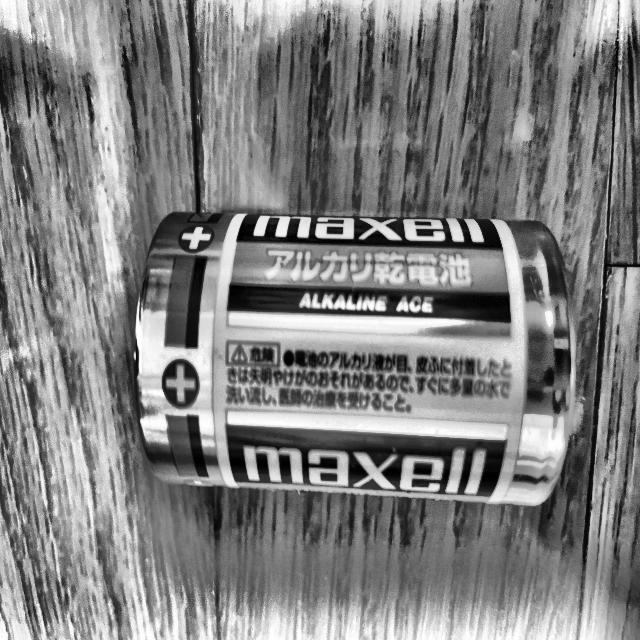drycell: (135, 212, 573, 504)
